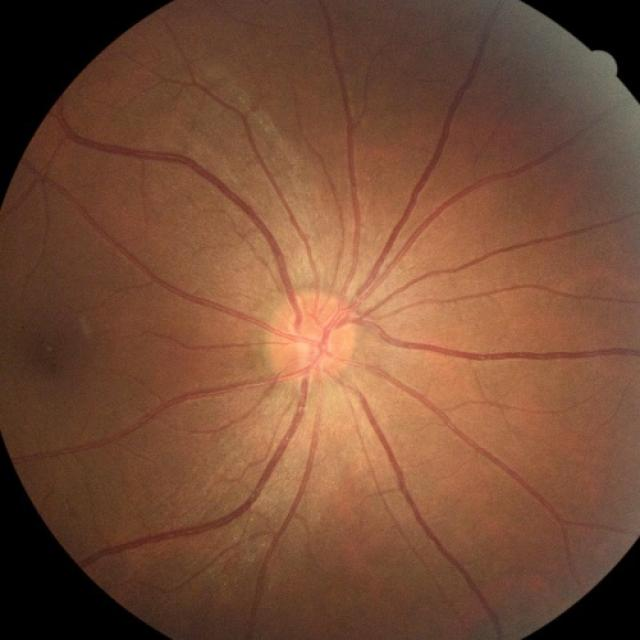OC: (303, 336, 333, 362)
OD: (270, 300, 355, 380)
